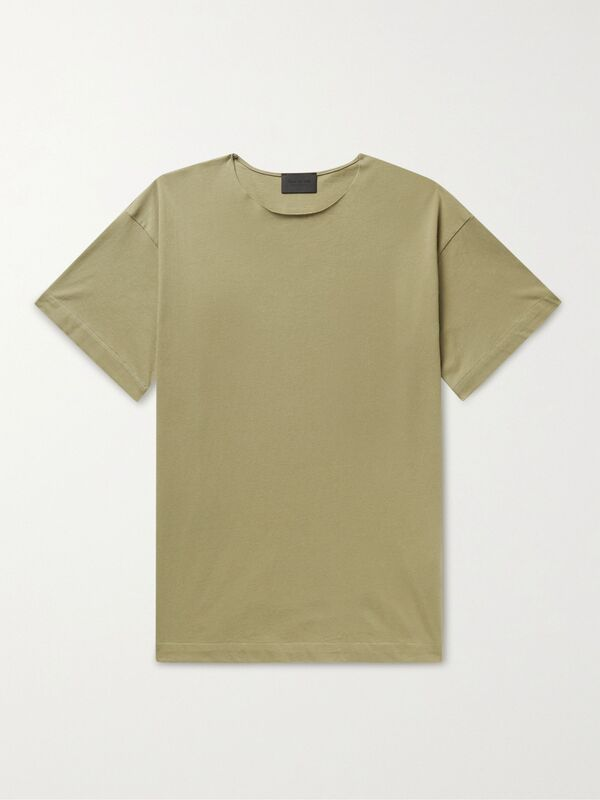tshirt: (31, 150, 568, 669)
